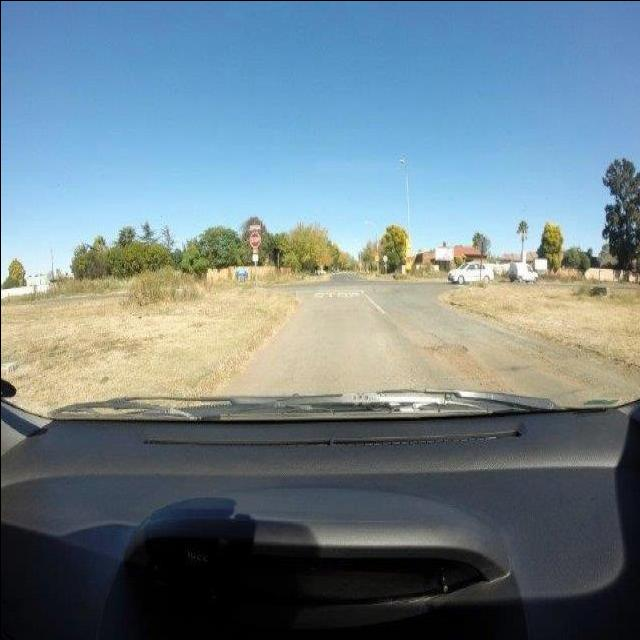lubang: (522, 348, 622, 396), (444, 359, 512, 385), (420, 335, 471, 365)
